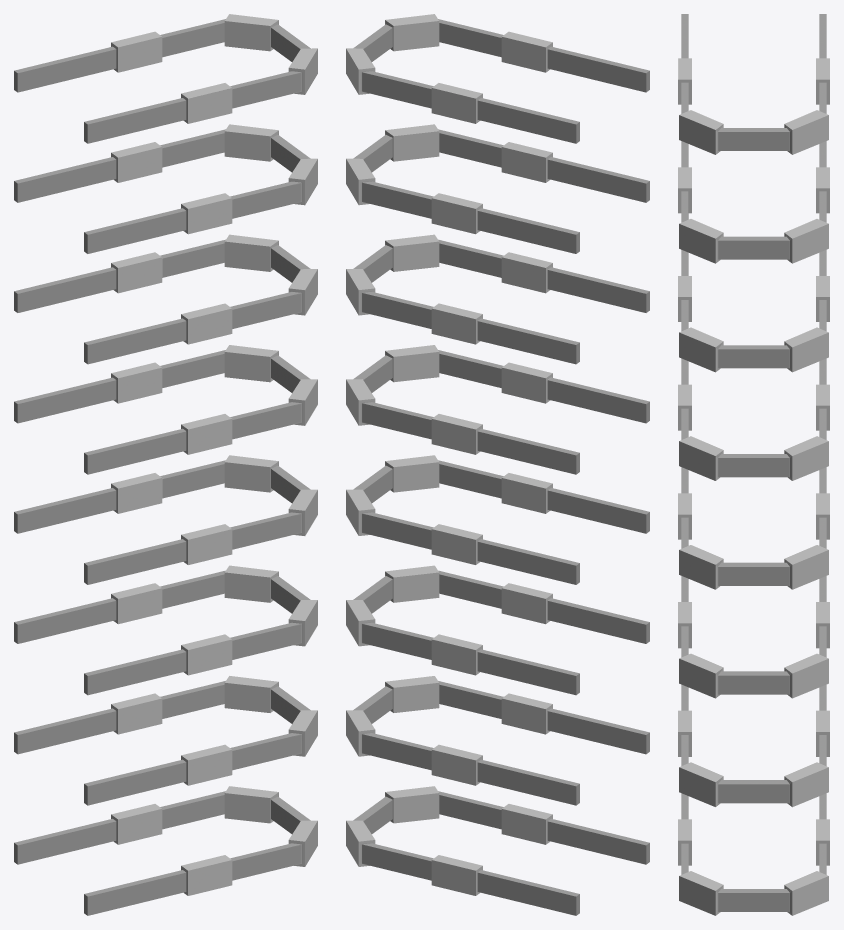
The model's file is Lift_Emitters.fbx.
3 renders of one model, left to right at view 1: azimuth 30°, elevation 25°; view 2: azimuth 150°, elevation 25°; view 3: azimuth 270°, elevation 25°, orthographic.
Visible parts, largest first — view 1: Lift_Emitters; view 2: Lift_Emitters; view 3: Lift_Emitters.
Boxes of the visible parts, <box> form: Lift_Emitters: <box>14,14,317,915</box>; Lift_Emitters: <box>346,14,649,915</box>; Lift_Emitters: <box>678,14,829,915</box>.
Size of the model in its own units: 3522 by 10845 by 1897.
